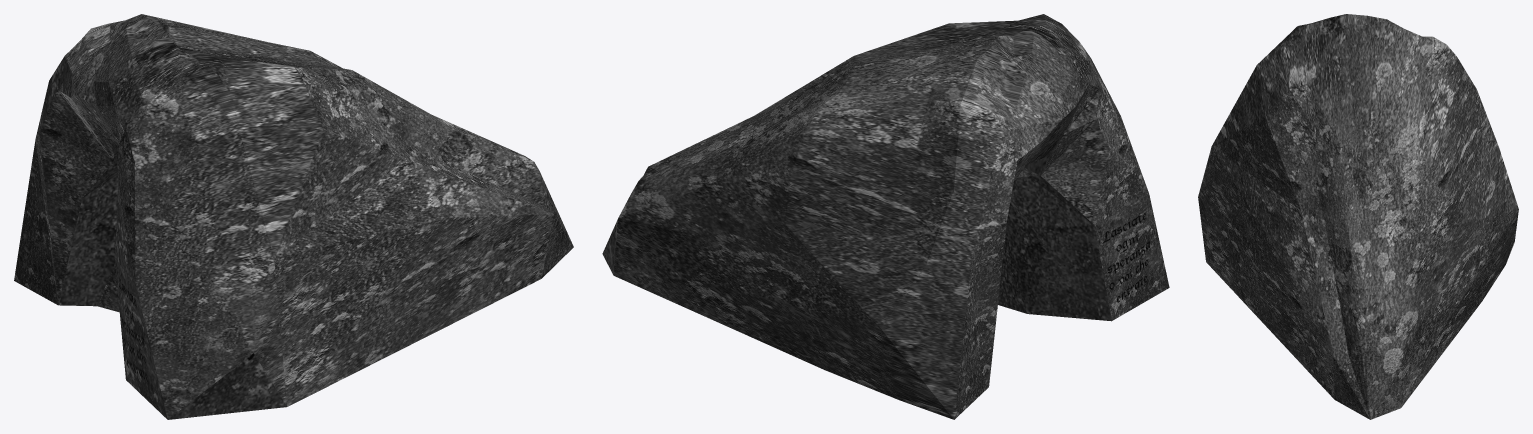
Rendered from hellPort.fbx.
3 views of the same model, side by side, from view 1: azimuth 30°, elevation 25°; view 2: azimuth 150°, elevation 25°; view 3: azimuth 270°, elevation 25° (orthographic). The views are drawn at different scales.
Visible parts, largest first — view 1: Icosphere; view 2: Icosphere; view 3: Icosphere.
Boxes of the visible parts, left/top/right/bottom form: Icosphere: left=14, top=14, right=573, bottom=419; Icosphere: left=602, top=14, right=1169, bottom=419; Icosphere: left=1198, top=14, right=1518, bottom=419.
Bounding box in the file's own units: 15.41 × 9.51 × 11.24.
